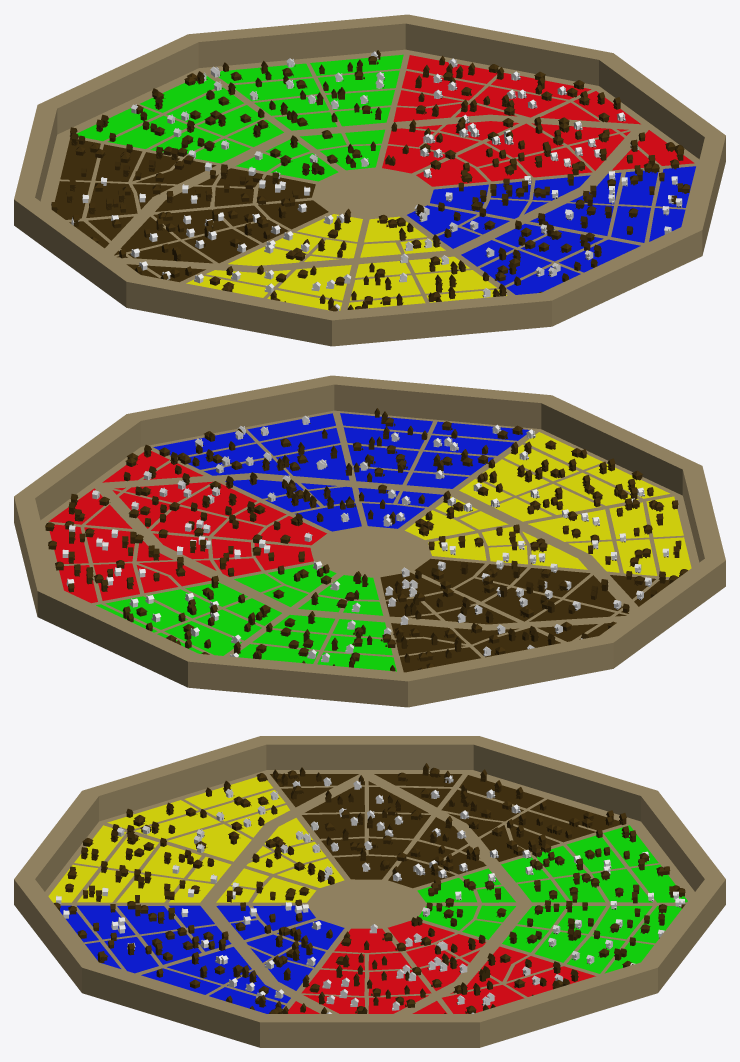
The model's file is mapa viejo.fbx.
The picture shows the model from 3 angles, top to bottom: view 1: azimuth 30°, elevation 25°; view 2: azimuth 150°, elevation 25°; view 3: azimuth 270°, elevation 25°; orthographic projection. The views are drawn at different scales.
Parts seen in each view (by area): view 1: Plane.002, Cylinder.001; view 2: Plane.002, Cylinder.001; view 3: Plane.002, Cylinder.001.
Boxes of the visible parts, bbox=[...] form: Plane.002: bbox=[51, 50, 695, 311]; Cylinder.001: bbox=[14, 14, 725, 346]; Plane.002: bbox=[45, 408, 691, 672]; Cylinder.001: bbox=[14, 375, 725, 707]; Plane.002: bbox=[48, 763, 687, 1013]; Cylinder.001: bbox=[14, 736, 725, 1047].
Bounding box in the file's own units: 279 × 11.6 × 293.
